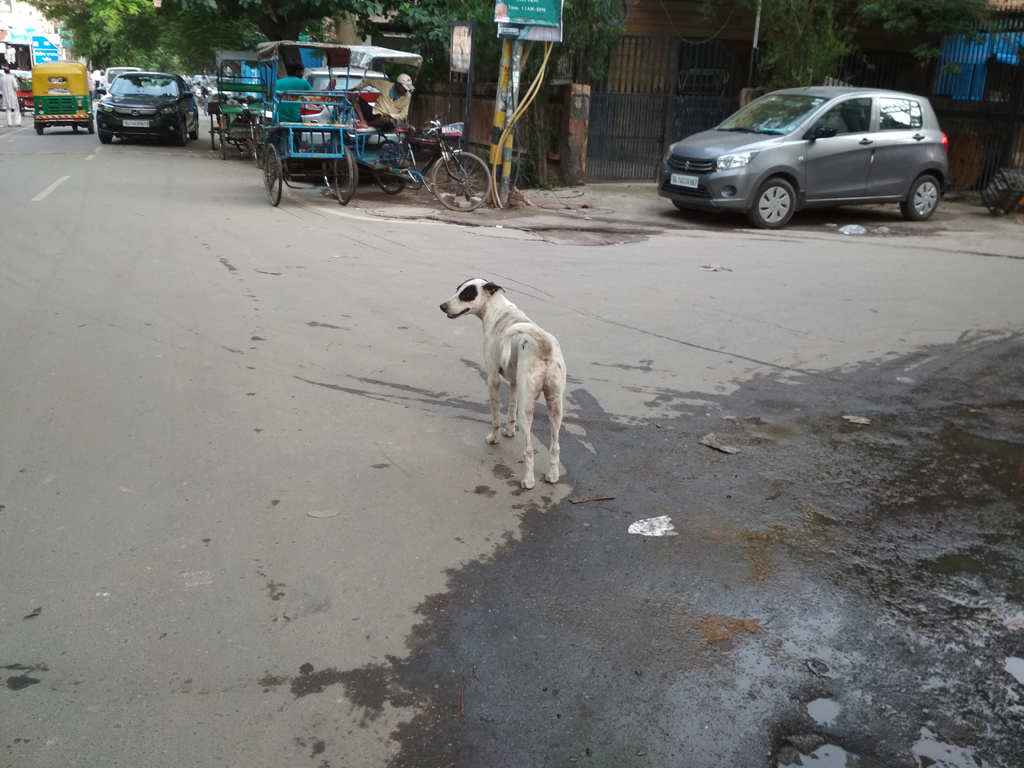dog: (440, 277, 566, 488)
